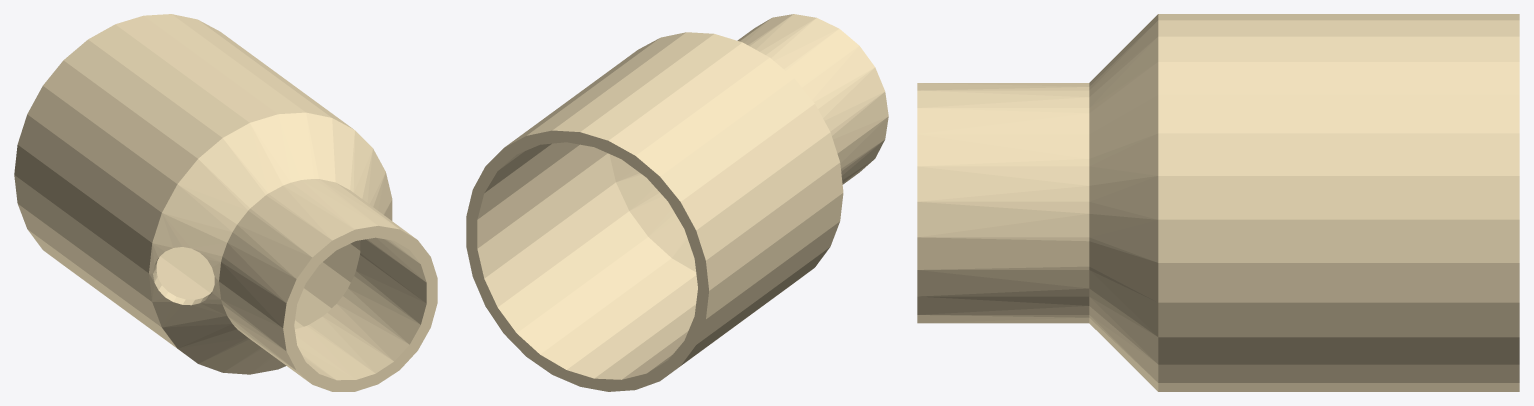
File: Fuel_tank_body.glb
3 views of the same model, side by side, from view 1: azimuth 30°, elevation 25°; view 2: azimuth 150°, elevation 25°; view 3: azimuth 270°, elevation 25° (orthographic). The views are drawn at different scales.
Visible parts, largest first — view 1: Node1; view 2: Node1; view 3: Node1.
Part boxes in pixels (box(x1,y1,x2,y2)): Node1: box(14, 14, 437, 391); Node1: box(466, 14, 888, 391); Node1: box(917, 14, 1519, 391).
Size of the model in its own units: 21.93 by 21.96 by 35.
